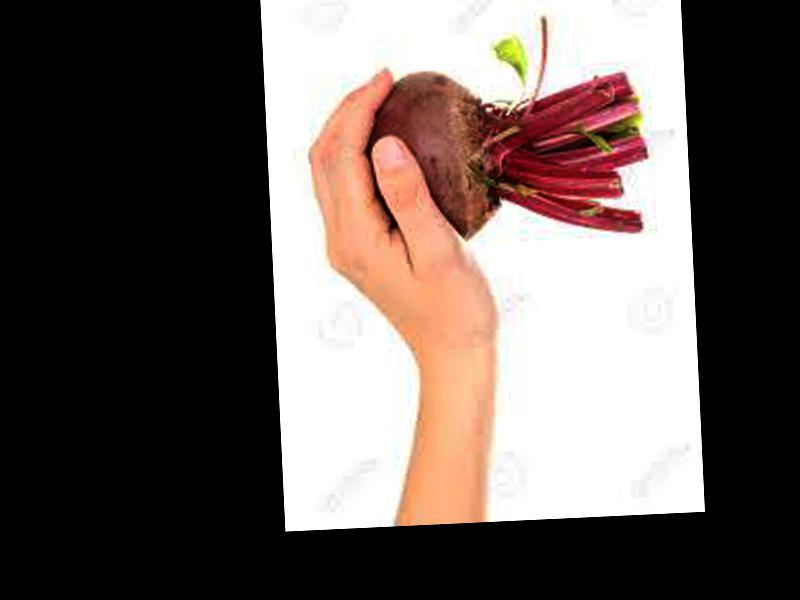Beet: (359, 10, 650, 243)
